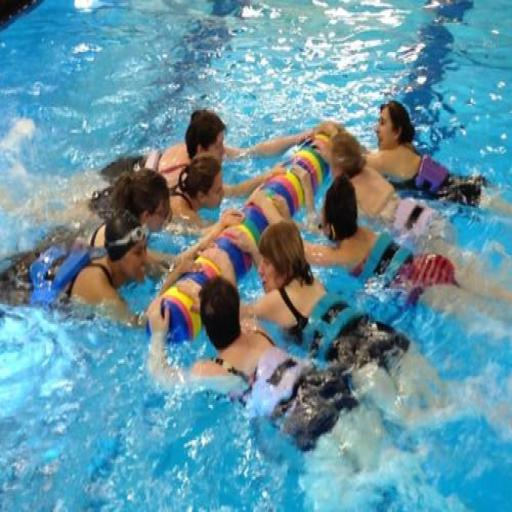swimming: (173, 71, 512, 512), (0, 100, 289, 435), (358, 98, 511, 228)
